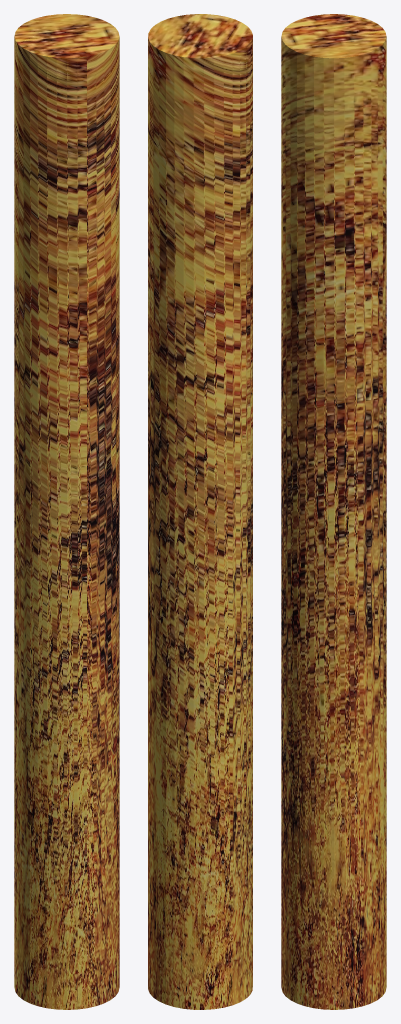
File: tree.obj
3 renders of one model, left to right at view 1: azimuth 90°, elevation 25°; view 2: azimuth 150°, elevation 25°; view 3: azimuth 270°, elevation 25°, orthographic.
Visible parts, largest first — view 1: Cylinder; view 2: Cylinder; view 3: Cylinder.
Boxes of the visible parts, x1,y1,x2,y2 form: Cylinder: (14,14,119,1009); Cylinder: (148,14,252,1009); Cylinder: (281,14,386,1009).
Size of the model in its own units: 0.2 by 2 by 0.2.
1 material, 1 textured.
